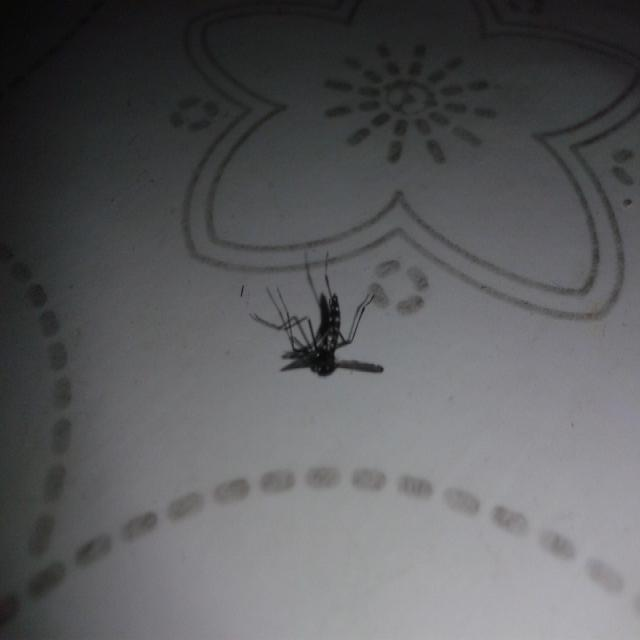albopictus: (245, 245, 383, 387)
